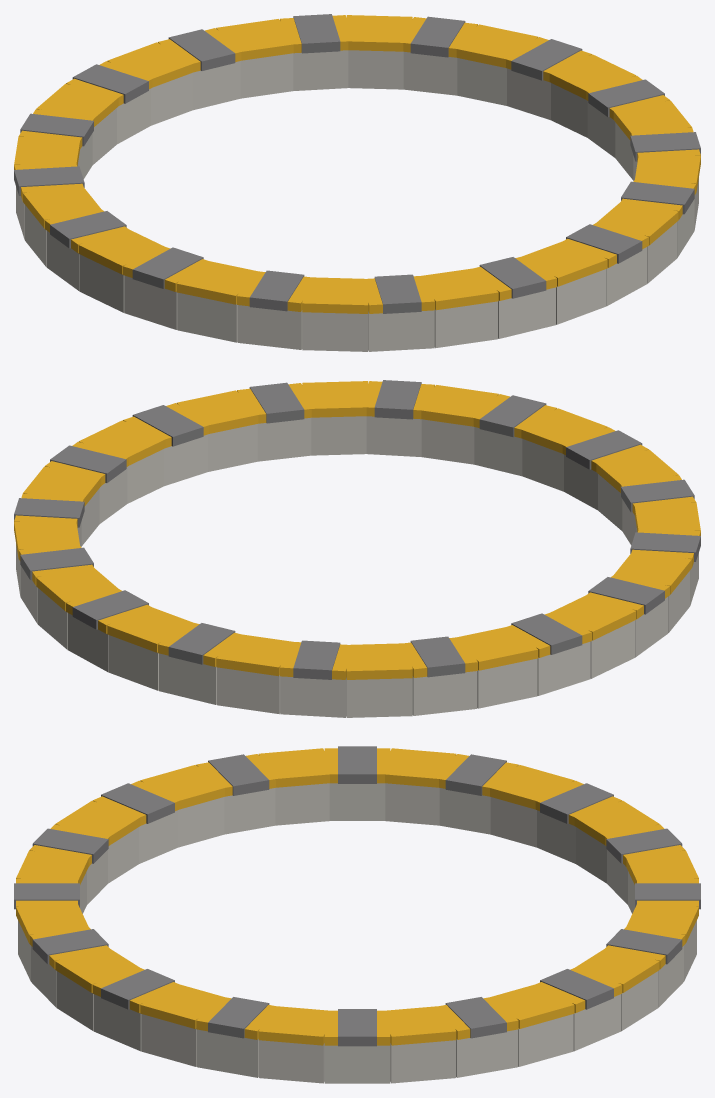
The model's file is pit_rim.glb.
The picture shows the model from 3 angles, top to bottom: view 1: azimuth 30°, elevation 25°; view 2: azimuth 150°, elevation 25°; view 3: azimuth 270°, elevation 25°; orthographic projection.
Visible parts, largest first — view 1: pit_rim; view 2: pit_rim; view 3: pit_rim.
Part boxes in pixels (bbox=[...]): pit_rim: bbox=[14, 14, 700, 351]; pit_rim: bbox=[14, 380, 700, 717]; pit_rim: bbox=[14, 746, 700, 1083].
Size of the model in its own units: 3.54 by 0.2755 by 3.54.
